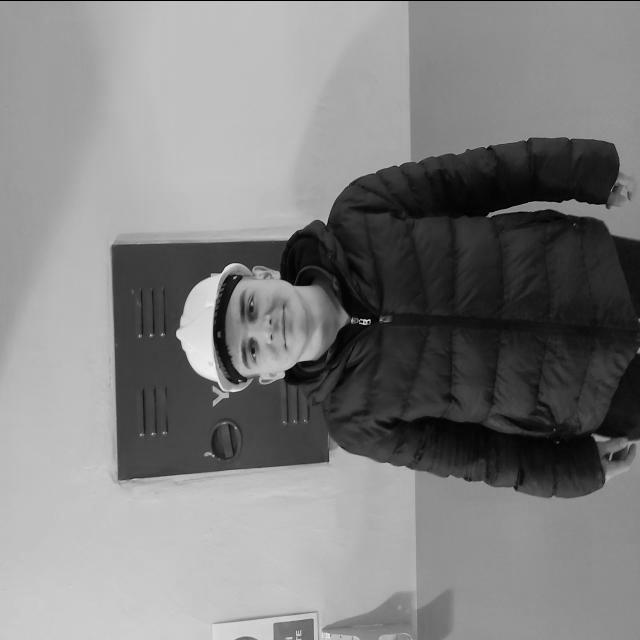construction helmet: (178, 261, 258, 393)
